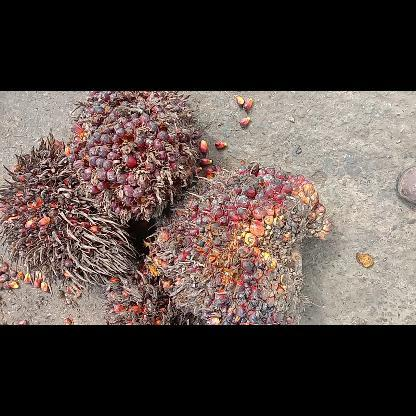TBS masak: (143, 162, 332, 324), (68, 91, 200, 219)
Terlalu masak: (0, 129, 138, 301), (99, 264, 201, 324)
